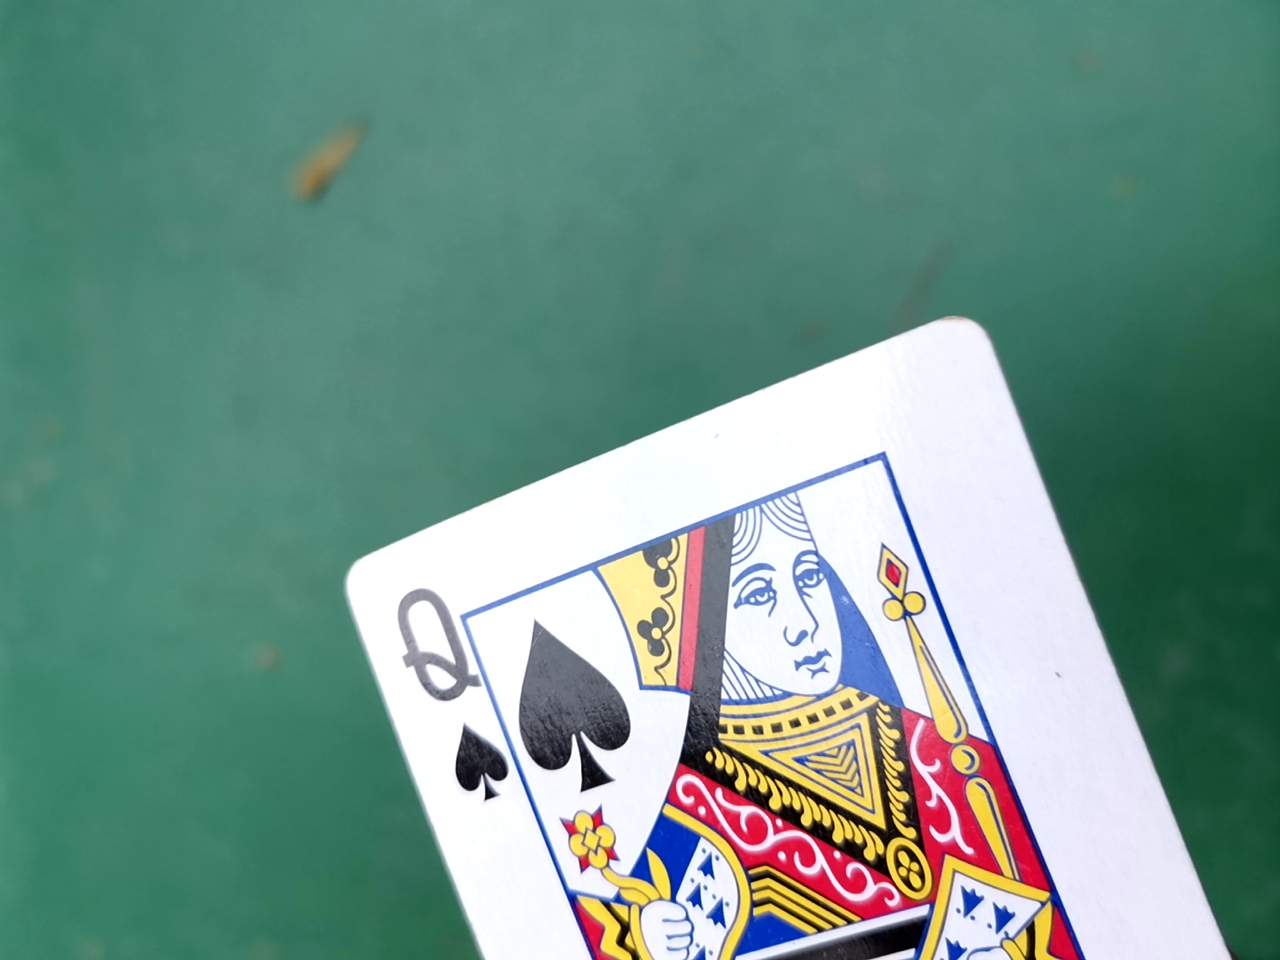ht q: (357, 301, 1280, 957)
